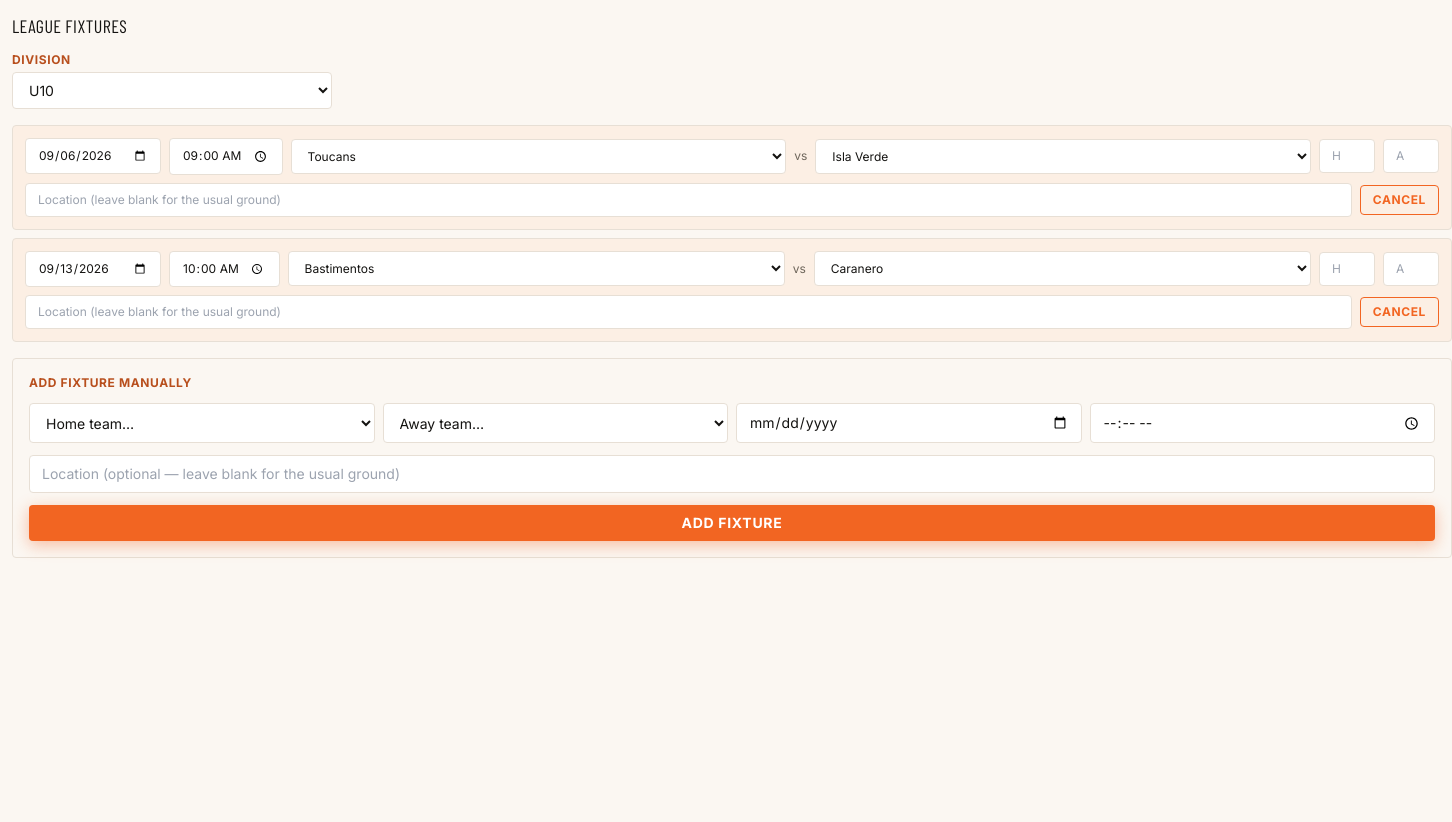
LeagueFixturesAdmin — Save All › Reset discards just that row’s edit
expect the 1st date field showing "2026-09-06" is shown: met, box [25,138,161,174]
Type "4" into the 1st number field with placeholder "H" at point(1347, 156), box [1319,139,1375,173]
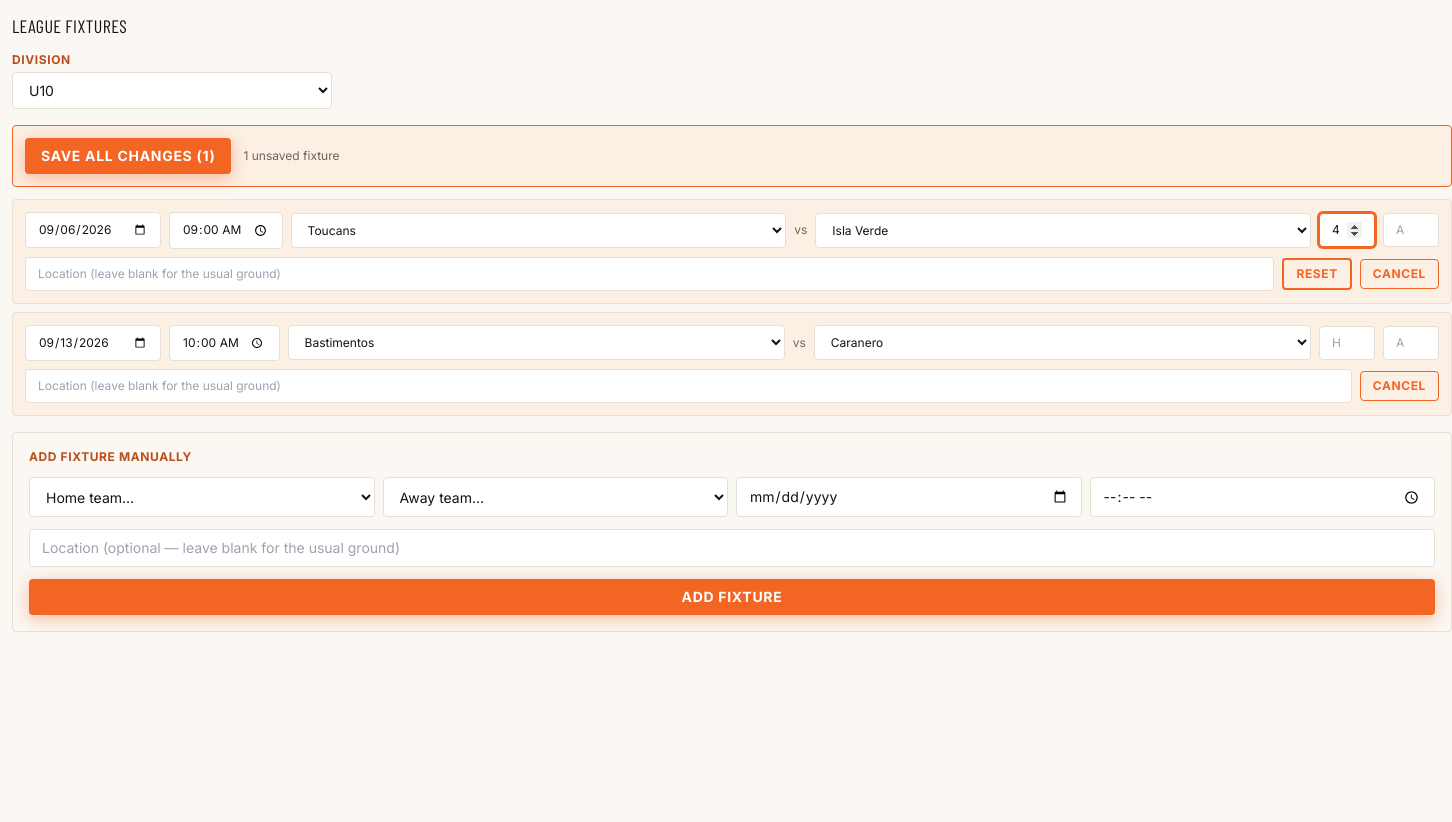
Click the button "Reset" at point(1317, 274), box [1282,258,1352,290]
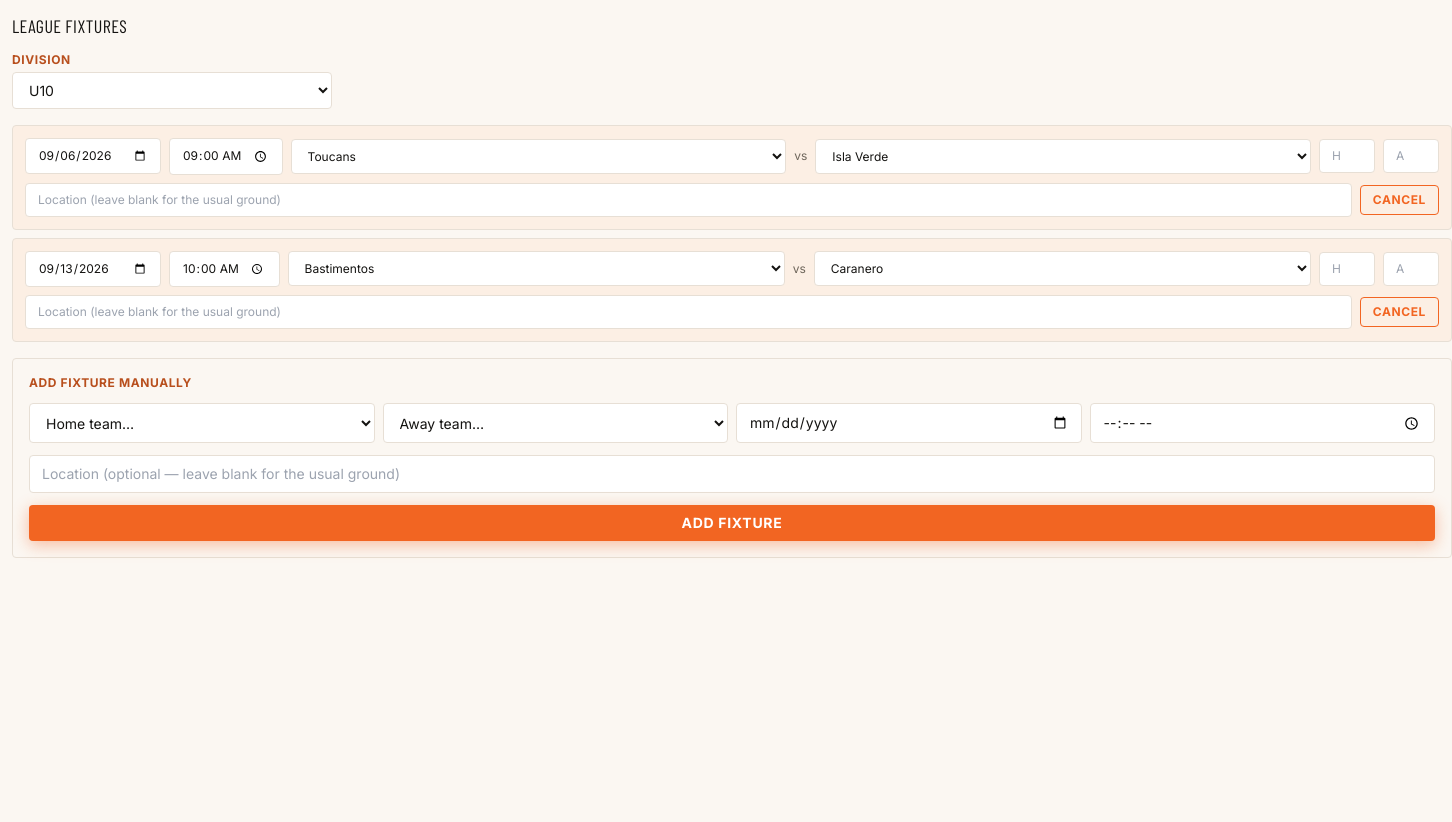
expect the 1st number field with placeholder "H" is not empty: met, box [1319,139,1375,173]
expect the button "Save All Changes" is gone: met
